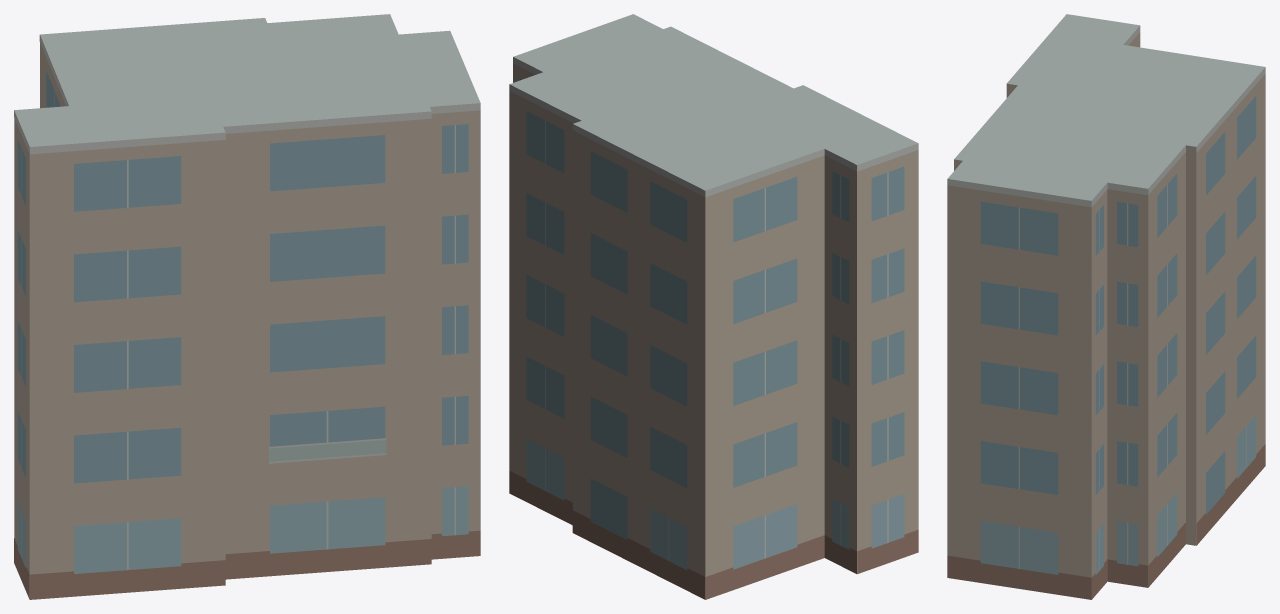
Rendered from survey-upis-32682105.glb.
3 renders of one model, left to right at view 1: azimuth 30°, elevation 25°; view 2: azimuth 150°, elevation 25°; view 3: azimuth 270°, elevation 25°, orthographic. The views are drawn at different scales.
Parts seen in each view (by area): view 1: survey-upis-32682105.tmp; view 2: survey-upis-32682105.tmp; view 3: survey-upis-32682105.tmp.
Part boxes in pixels (x1,y1,x2,y2): survey-upis-32682105.tmp: [14, 14, 480, 599]; survey-upis-32682105.tmp: [509, 14, 918, 599]; survey-upis-32682105.tmp: [947, 14, 1265, 599].
Bounding box in the file's own units: 15.33 × 15.25 × 11.03.
